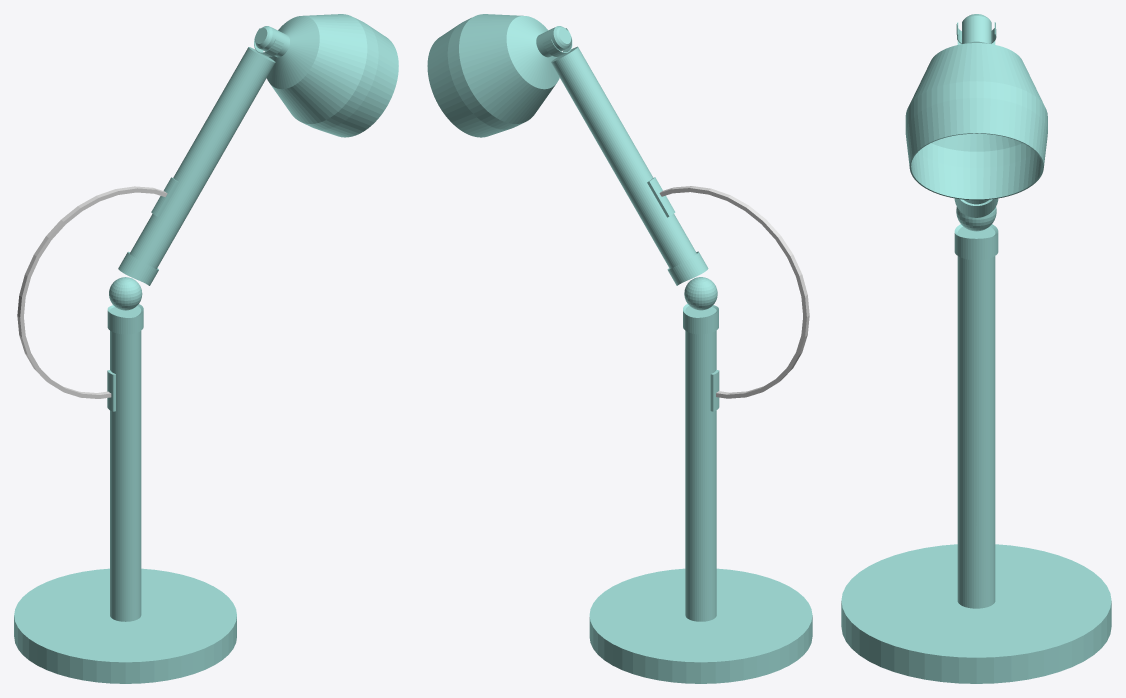
The model's file is CalismaLambasi.fbx.
The picture shows the model from 3 angles, left to right: view 1: azimuth 30°, elevation 25°; view 2: azimuth 150°, elevation 25°; view 3: azimuth 270°, elevation 25°; orthographic projection. The views are drawn at different scales.
Visible parts, largest first — view 1: Kol1, LambaKafasi, Kol2, Kablo, Tutucu; view 2: Kol1, LambaKafasi, Kol2, Kablo, Tutucu; view 3: Kol1, LambaKafasi, Kol2, Tutucu.
Boxes of the visible parts, <box> form: Kol1: <box>14,304,236,683</box>; LambaKafasi: <box>255,14,398,137</box>; Kol2: <box>118,47,275,285</box>; Kablo: <box>17,186,167,398</box>; Tutucu: <box>109,277,142,310</box>; Kol1: <box>589,304,812,683</box>; LambaKafasi: <box>427,14,571,137</box>; Kol2: <box>551,46,708,285</box>; Kablo: <box>659,186,809,398</box>; Tutucu: <box>684,277,717,310</box>; Kol1: <box>841,224,1111,683</box>; LambaKafasi: <box>905,14,1047,200</box>; Kol2: <box>954,41,998,217</box>; Tutucu: <box>956,207,996,231</box>.
Bounding box in the file's own units: 268 × 398 × 140.
